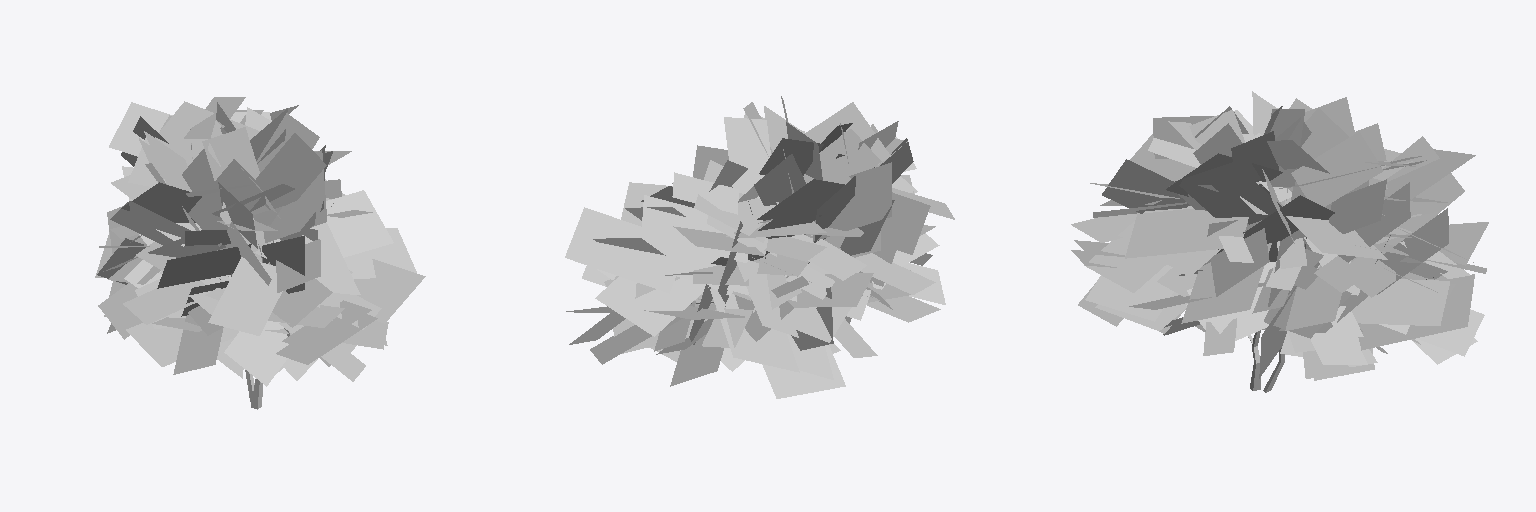
Rendered from tree.obj.
3 renders of one model, left to right at view 1: azimuth 30°, elevation 25°; view 2: azimuth 150°, elevation 25°; view 3: azimuth 270°, elevation 25°, orthographic.
Parts seen in each view (by area): view 1: LOD01; view 2: LOD01; view 3: LOD01.
Boxes of the visible parts, x1,y1,x2,y2 form: LOD01: [95, 97, 425, 409]; LOD01: [565, 96, 954, 398]; LOD01: [1071, 91, 1488, 392].
Bounding box in the file's own units: 3.77 × 3.6 × 4.92.